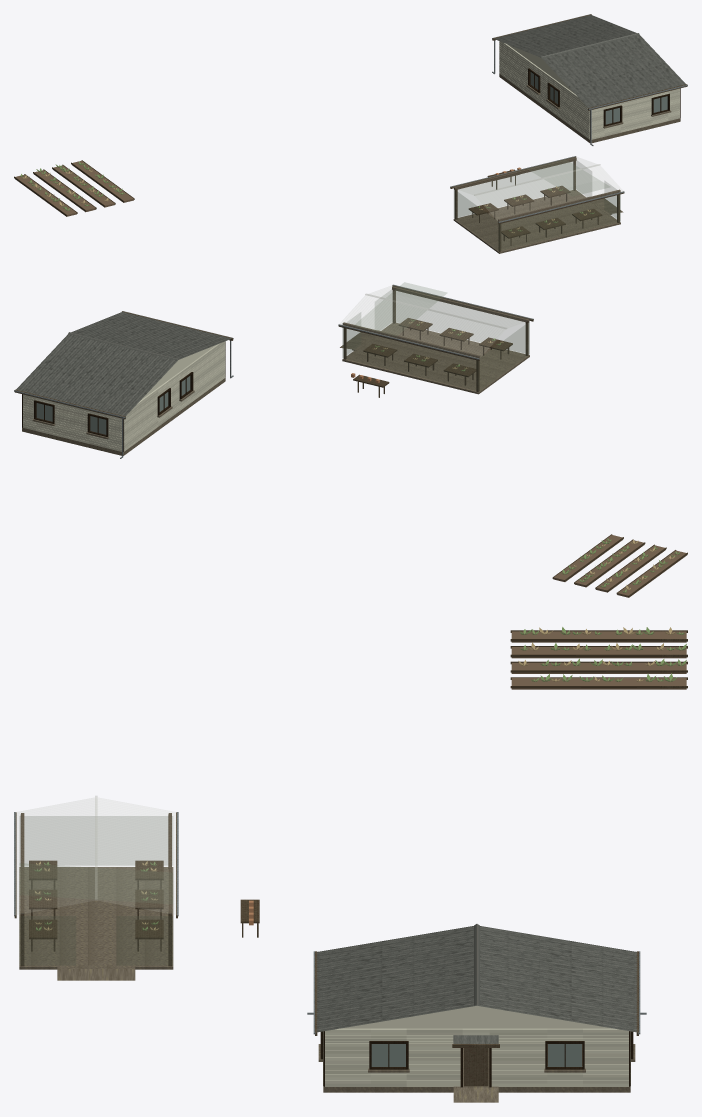
3 views of the same model, one above another, from view 1: azimuth 30°, elevation 25°; view 2: azimuth 150°, elevation 25°; view 3: azimuth 270°, elevation 25° (orthographic). The views are drawn at different scales.
Visible parts, largest first — view 1: H12_CHAPAS_ONDULADAS, H12_VIVEIRO_TELA, H12_VIVEIRO_COBERTURA, H12_VIVEIRO_BASE, H12_FUNDOS, H12_HORTA_TERRA, H12_LATERAIS, NEXT_SOFT_H12_VIVEIRO_SOMBRITE, H12_VIVEIRO_MUDAS_TAMPO, H12_VIVEIRO_TELA_FUNDO, H12_VIVEIRO_VIGAS, H12_HORTA_BORDAS (+10 smaller); view 2: H12_CHAPAS_ONDULADAS, H12_VIVEIRO_COBERTURA, H12_VIVEIRO_TELA, H12_VIVEIRO_BASE, H12_FUNDOS, H12_HORTA_TERRA, H12_LATERAIS, NEXT_SOFT_H12_VIVEIRO_SOMBRITE, H12_VIVEIRO_MUDAS_TAMPO, H12_VIVEIRO_TELA_FUNDO, H12_VIVEIRO_VIGAS, H12_HORTA_BORDAS (+8 smaller); view 3: H12_CHAPAS_ONDULADAS, H12_VIVEIRO_COBERTURA, H12_FACHADA, H12_VIVEIRO_BASE, H12_HORTA_TERRA, H12_VIVEIRO_TELA_FUNDO, H12_VIVEIRO_TELA_FRENTE, NEXT_SOFT_H12_VIVEIRO_SOMBRITE, H12_VIVEIRO_MUDAS_TAMPO, H12_OITOES, H12_HORTA_BORDAS, H12_FUNDACAO (+6 smaller).
Boxes of the visible parts, x1,y1,x2,y2 form: H12_CHAPAS_ONDULADAS: [494, 15, 685, 107]; H12_VIVEIRO_TELA: [458, 162, 620, 250]; H12_VIVEIRO_COBERTURA: [453, 157, 622, 221]; H12_VIVEIRO_BASE: [453, 190, 620, 253]; H12_FUNDOS: [499, 41, 589, 139]; H12_HORTA_TERRA: [15, 160, 133, 216]; H12_LATERAIS: [591, 88, 679, 139]; NEXT_SOFT_H12_VIVEIRO_SOMBRITE: [528, 159, 609, 196]; H12_VIVEIRO_MUDAS_TAMPO: [468, 186, 602, 238]; H12_VIVEIRO_TELA_FUNDO: [454, 190, 498, 250]; H12_VIVEIRO_VIGAS: [454, 157, 620, 221]; H12_HORTA_BORDAS: [14, 160, 134, 216]; H12_CHAPAS_ONDULADAS: [16, 312, 231, 416]; H12_VIVEIRO_COBERTURA: [340, 285, 531, 357]; H12_VIVEIRO_TELA: [343, 301, 525, 390]; H12_VIVEIRO_BASE: [342, 322, 529, 394]; H12_FUNDOS: [124, 341, 225, 451]; H12_HORTA_TERRA: [553, 535, 686, 597]; H12_LATERAIS: [23, 394, 121, 451]; NEXT_SOFT_H12_VIVEIRO_SOMBRITE: [354, 282, 446, 335]; H12_VIVEIRO_MUDAS_TAMPO: [363, 318, 512, 377]; H12_VIVEIRO_TELA_FUNDO: [479, 322, 529, 390]; H12_VIVEIRO_VIGAS: [342, 286, 529, 358]; H12_HORTA_BORDAS: [552, 534, 687, 597]; H12_CHAPAS_ONDULADAS: [316, 926, 637, 1032]; H12_VIVEIRO_COBERTURA: [16, 798, 176, 914]; H12_FACHADA: [325, 1028, 628, 1086]; H12_VIVEIRO_BASE: [19, 867, 173, 969]; H12_HORTA_TERRA: [511, 631, 686, 689]; H12_VIVEIRO_TELA_FUNDO: [25, 816, 172, 864]; H12_VIVEIRO_TELA_FRENTE: [19, 916, 172, 965]; NEXT_SOFT_H12_VIVEIRO_SOMBRITE: [19, 863, 172, 903]; H12_VIVEIRO_MUDAS_TAMPO: [29, 860, 163, 939]; H12_OITOES: [341, 1006, 612, 1028]; H12_HORTA_BORDAS: [510, 630, 687, 688]; H12_FUNDACAO: [323, 1044, 630, 1092].
Size of the model in its own units: 46.92 by 4.28 by 28.48.
15 materials, 7 textured.
